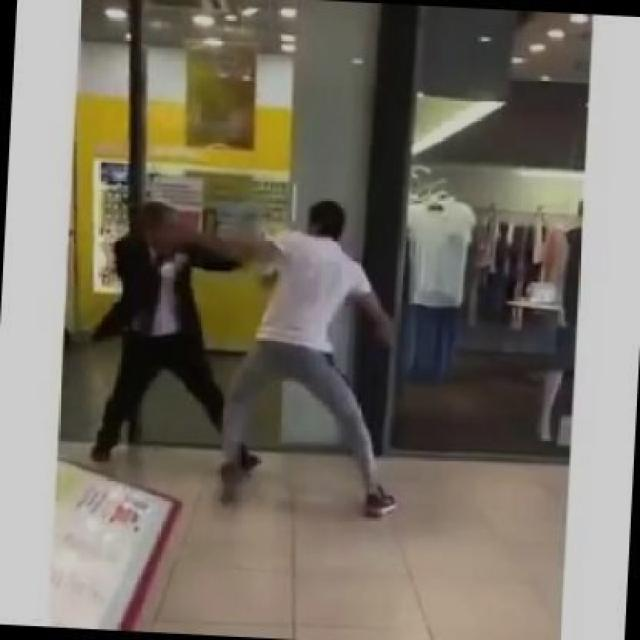fight: (60, 155, 425, 531)
